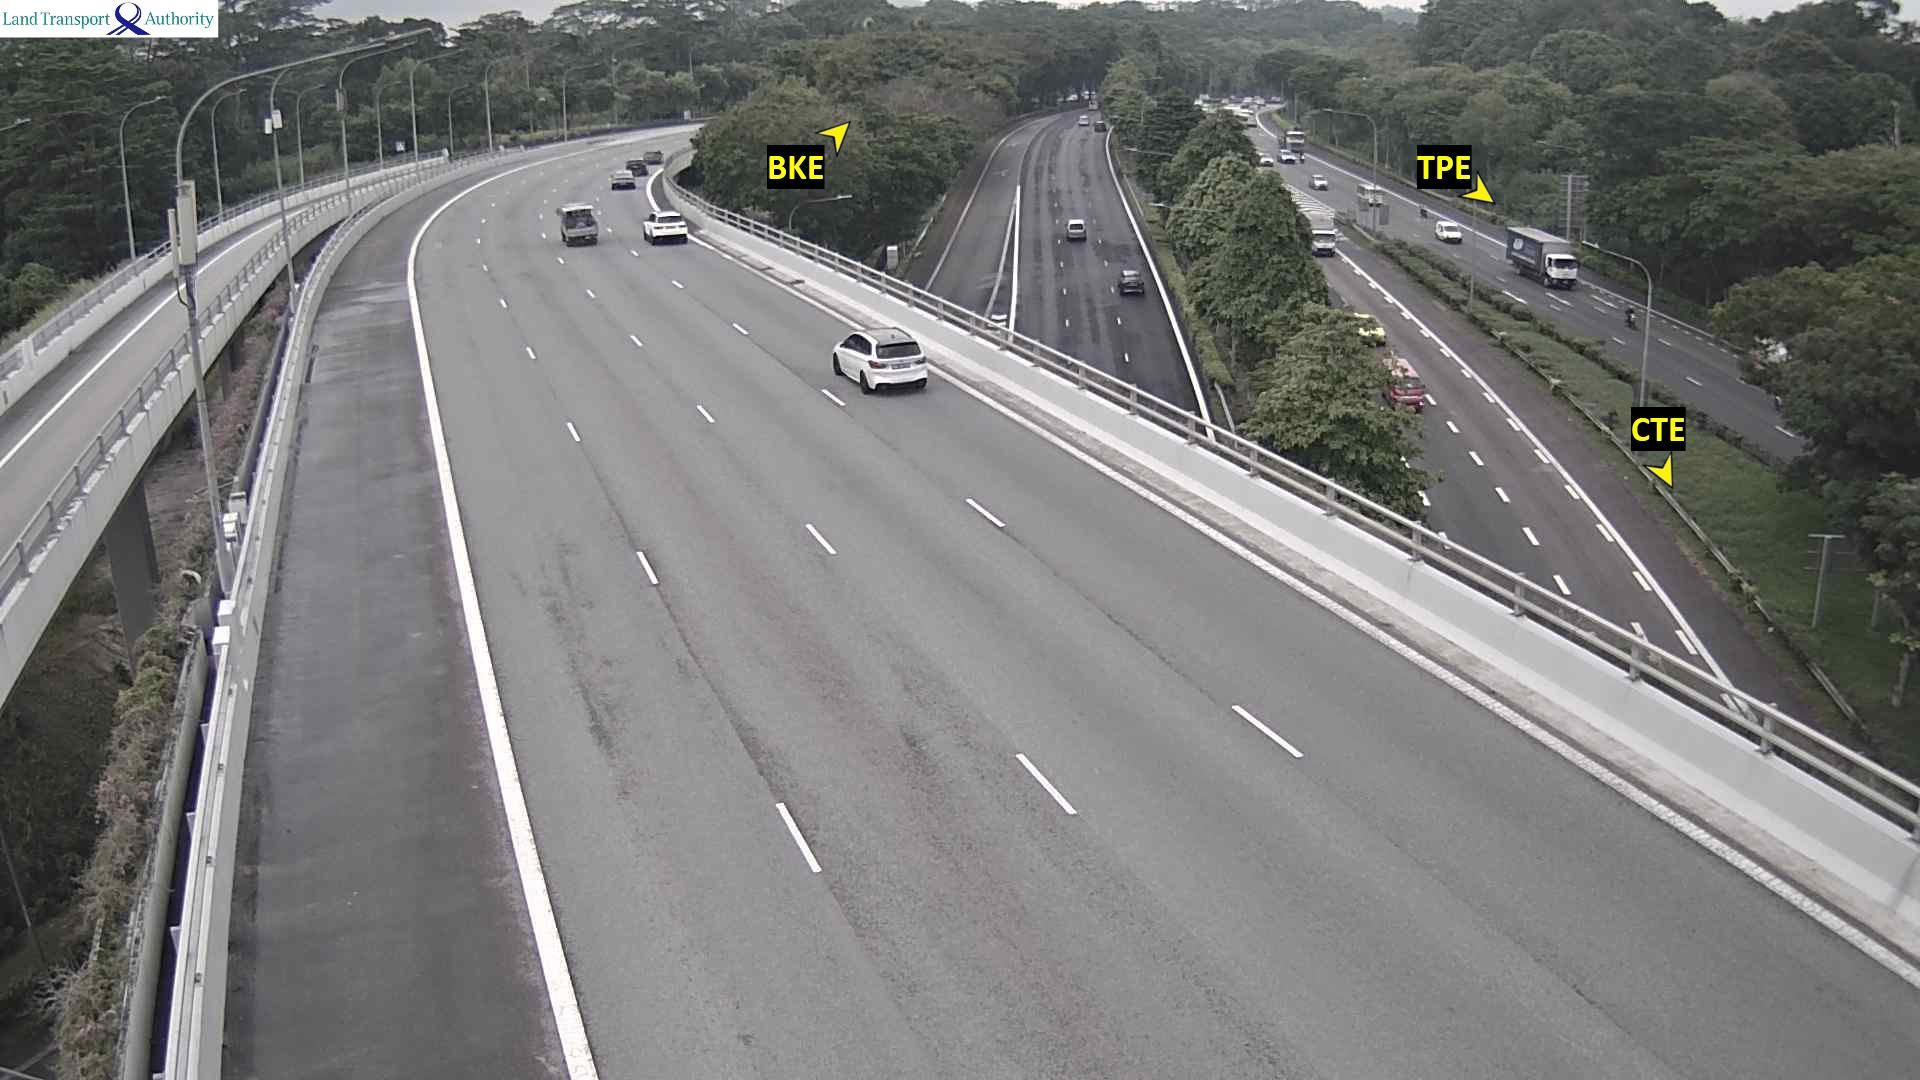cars: (831, 326, 928, 393), (641, 208, 688, 244), (1346, 310, 1386, 346), (1749, 334, 1788, 365), (1117, 267, 1144, 295), (1434, 218, 1462, 243), (609, 168, 634, 189), (1065, 218, 1086, 241), (1284, 127, 1305, 146), (626, 157, 647, 175), (1309, 172, 1328, 189), (1278, 147, 1298, 163), (1235, 107, 1254, 123), (642, 149, 662, 164), (1255, 152, 1273, 166), (1093, 117, 1107, 131), (1077, 113, 1090, 127)
motorcycle: (1624, 306, 1640, 328)
trucks: (1505, 224, 1578, 288), (1382, 355, 1425, 412), (1296, 205, 1338, 256), (556, 201, 598, 245), (1279, 127, 1305, 163)
